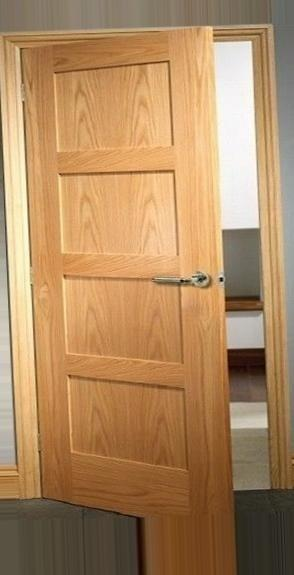door: (28, 31, 219, 511)
